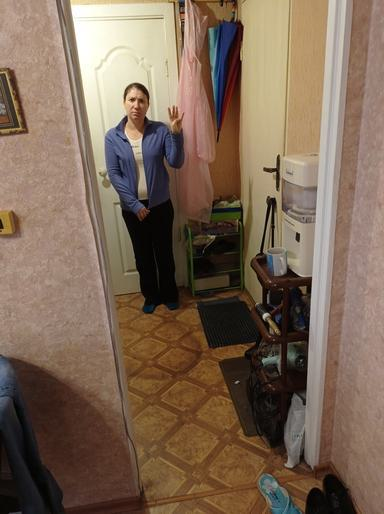four: (167, 104, 185, 134)
